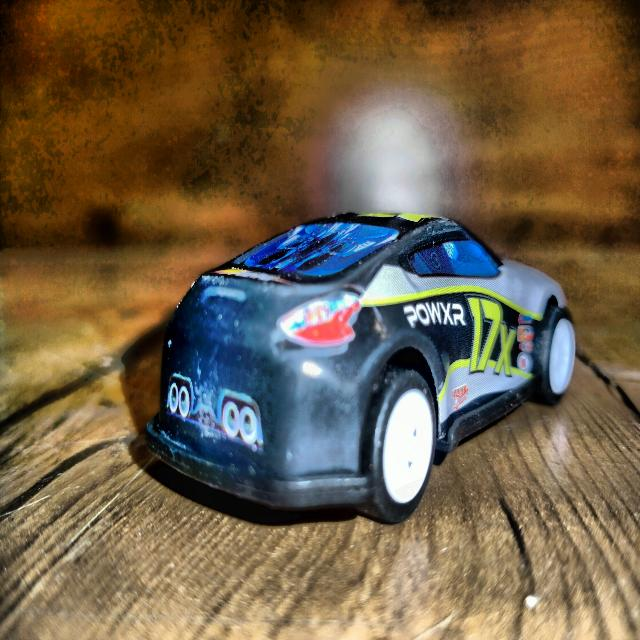Car: (146, 213, 575, 523)
